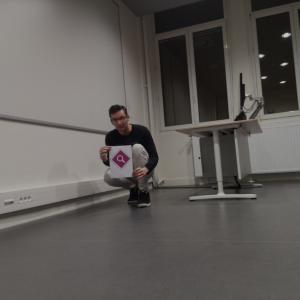search: (111, 149, 131, 168)
